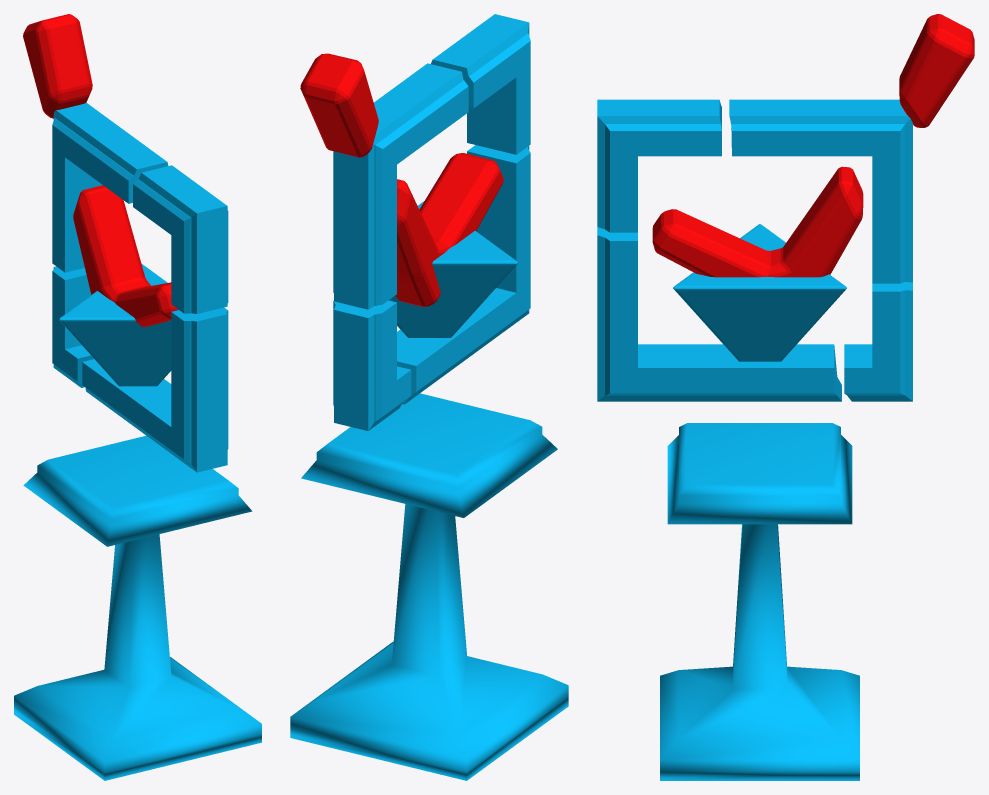
The model's file is Finished.obj.
The picture shows the model from 3 angles, left to right: view 1: azimuth 30°, elevation 25°; view 2: azimuth 150°, elevation 25°; view 3: azimuth 270°, elevation 25°; orthographic projection. The views are drawn at different scales.
Parts seen in each view (by area): view 1: pCube3, pCube1, pCube2, pCone1; view 2: pCube3, pCube1, pCube2, pCone1; view 3: pCube1, pCube3, pCube2, pCone1.
Part boxes in pixels (bbox=[...]): pCube3: bbox=[14, 435, 261, 780]; pCube1: bbox=[52, 102, 228, 472]; pCube2: bbox=[23, 14, 178, 327]; pCone1: bbox=[59, 263, 171, 386]; pCube3: bbox=[290, 393, 568, 780]; pCube1: bbox=[333, 14, 530, 430]; pCube2: bbox=[300, 53, 503, 306]; pCone1: bbox=[388, 201, 517, 337]; pCube1: bbox=[597, 99, 912, 401]; pCube3: bbox=[660, 423, 859, 780]; pCube2: bbox=[652, 14, 974, 277]; pCone1: bbox=[673, 224, 846, 361].
Bounding box in the file's own units: 0.7124 × 2.82 × 1.35.
